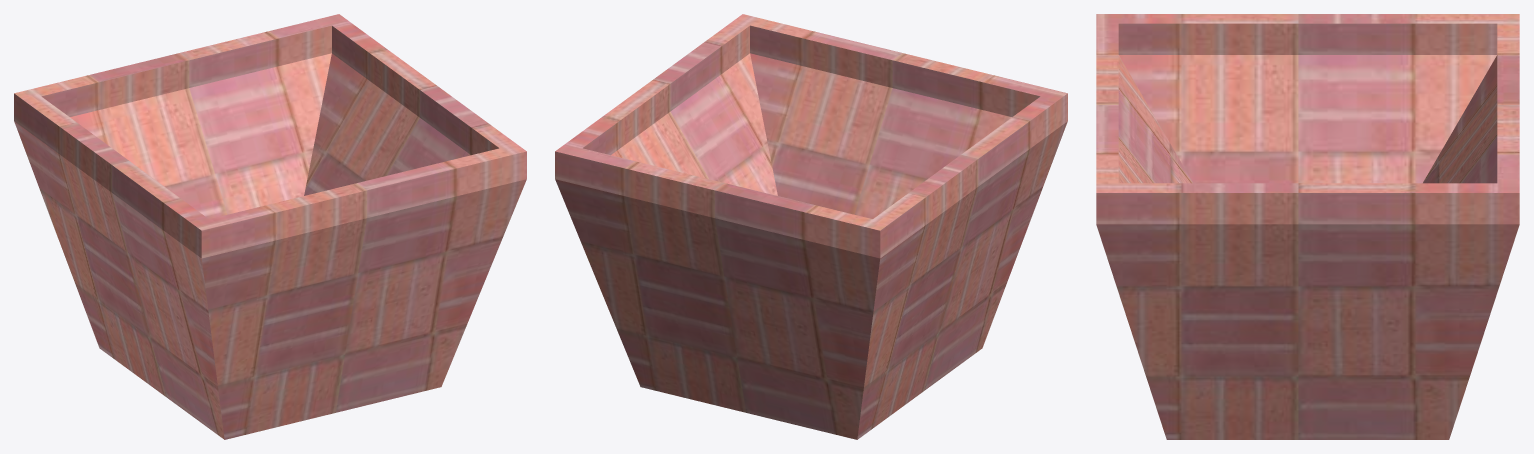
The model's file is square planter.dae.
3 renders of one model, left to right at view 1: azimuth 30°, elevation 25°; view 2: azimuth 150°, elevation 25°; view 3: azimuth 270°, elevation 25°, orthographic. The views are drawn at different scales.
Visible parts, largest first — view 1: SketchUp (×2); view 2: SketchUp (×2); view 3: SketchUp (×2).
Boxes of the visible parts, x1,y1,x2,y2 form: SketchUp (×2): (14, 14, 526, 439); SketchUp (×2): (555, 14, 1067, 439); SketchUp (×2): (1096, 14, 1519, 439).
Bounding box in the file's own units: 28.94 × 28.94 × 20.87.
Materials: 1 (1 with a texture image).
